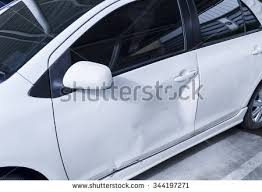Dent: (97, 69, 200, 174)
